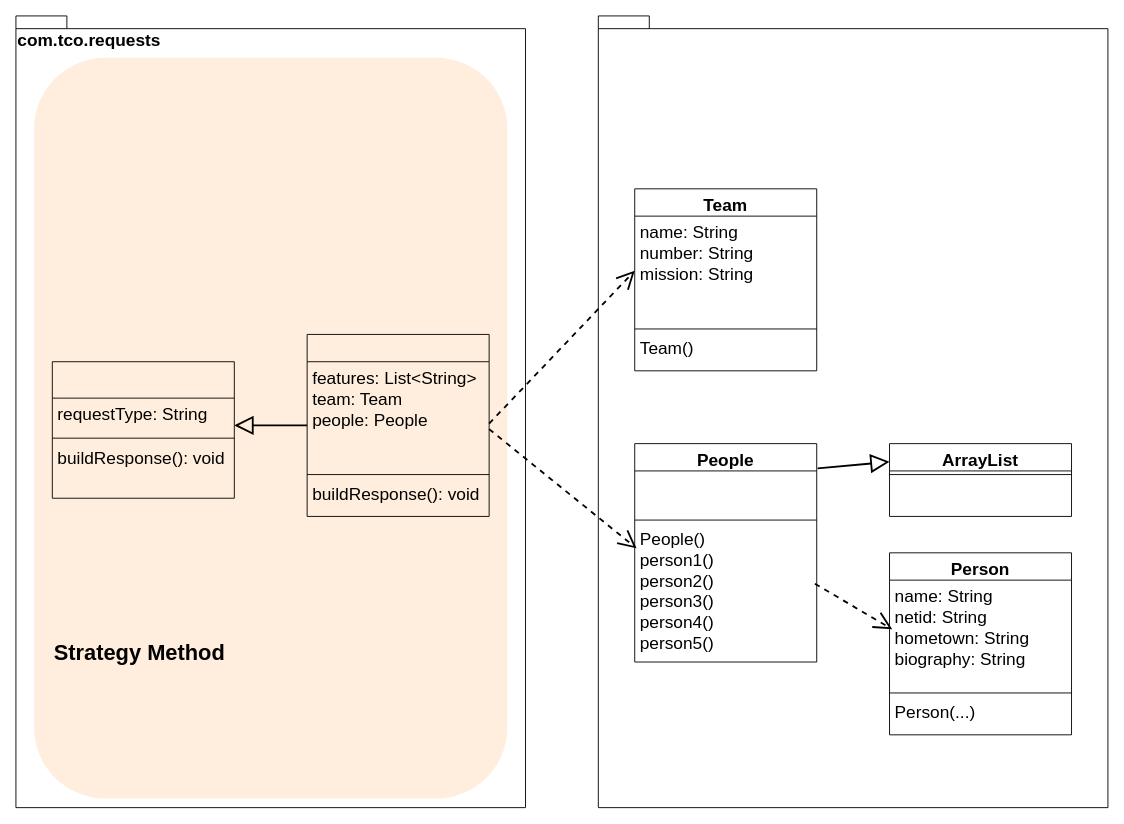
Some shapes in this 1124 by 824 pixel diagram are drawn without their labels. The shapes that lost their labels are listed below. From the top down, each one's box as (x1, y1, x2, y2) in pixels, then its label:
(51, 361, 234, 498): RestfulAPIRequest
(306, 334, 489, 516): ConfigRequest
(597, 15, 1108, 808): com.tco.misc
